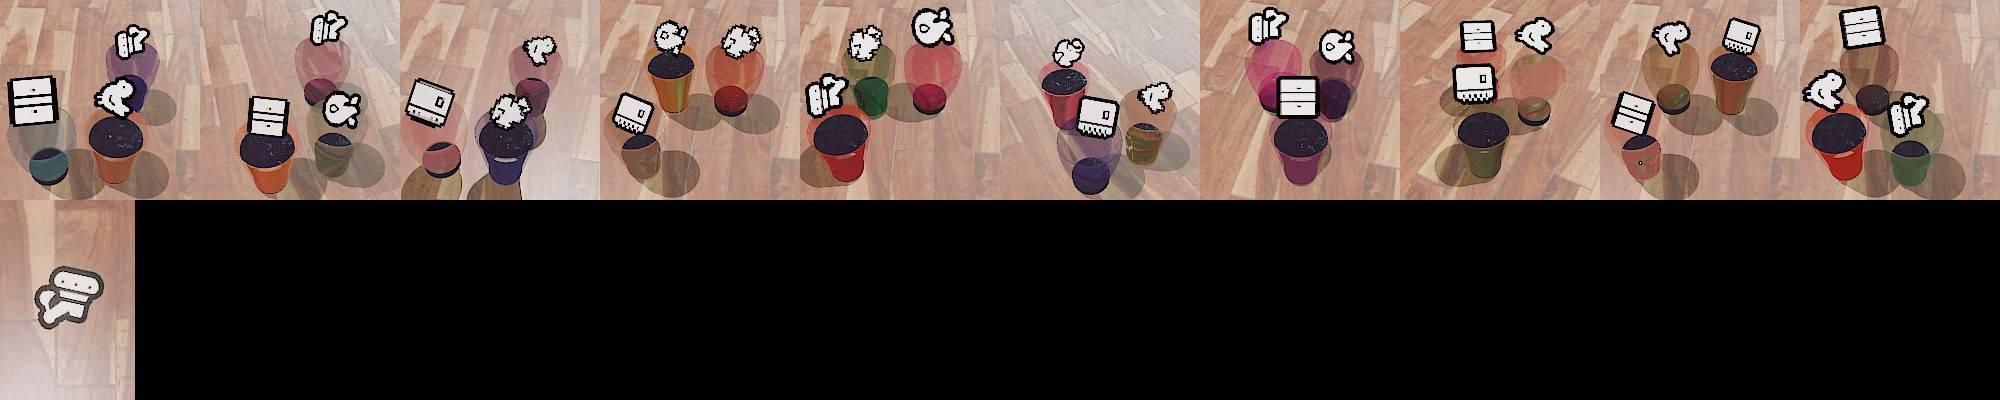icon: (33, 265, 105, 329), (404, 76, 455, 129), (8, 75, 59, 126), (805, 71, 849, 117), (1839, 5, 1885, 50), (611, 90, 656, 136), (1611, 90, 1656, 136), (1075, 94, 1120, 139), (1886, 90, 1930, 136), (1801, 69, 1847, 112), (911, 5, 955, 48), (93, 76, 139, 118), (1277, 73, 1319, 118), (1453, 62, 1496, 106), (247, 94, 290, 139), (1514, 17, 1556, 57), (486, 92, 531, 130), (1721, 18, 1761, 59), (719, 23, 763, 60), (321, 89, 362, 127), (1249, 6, 1290, 45), (847, 24, 885, 61), (1653, 20, 1691, 57), (652, 20, 690, 56), (310, 10, 348, 46), (1319, 28, 1356, 64), (1136, 80, 1173, 115), (1460, 19, 1497, 54), (116, 23, 151, 59), (522, 34, 557, 68), (1051, 36, 1085, 68)
